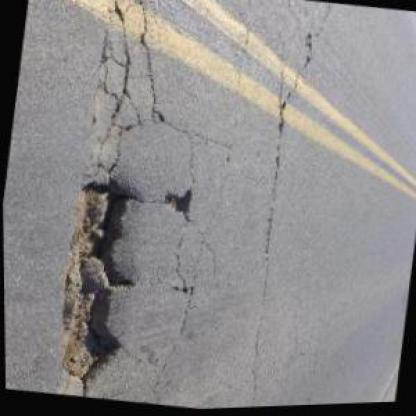pothole: (46, 168, 152, 395), (160, 186, 196, 220)
